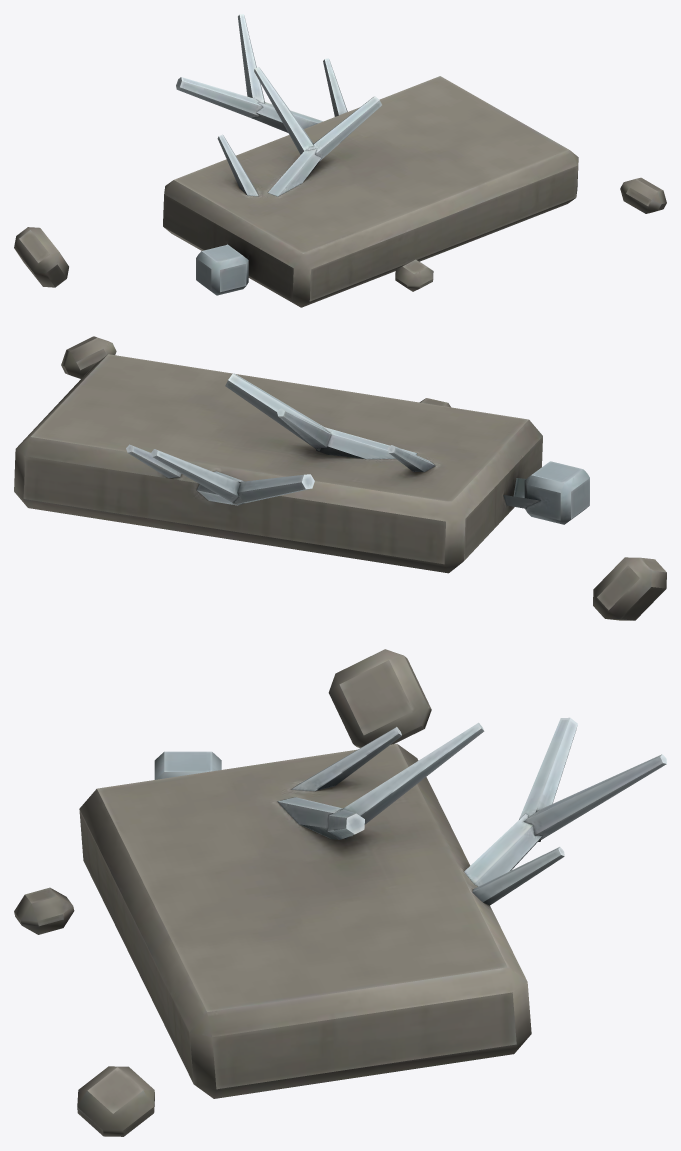
The model's file is camp_glasshorn.glb.
3 views of the same model, one above another, from view 1: azimuth 30°, elevation 25°; view 2: azimuth 150°, elevation 25°; view 3: azimuth 270°, elevation 25° (orthographic). The views are drawn at different scales.
Parts seen in each view (by area): view 1: camp_glasshorn_body; view 2: camp_glasshorn_body; view 3: camp_glasshorn_body.
Boxes of the visible parts, box(x1,y1,x2,y2) form: camp_glasshorn_body: box(14, 14, 666, 307); camp_glasshorn_body: box(14, 336, 666, 620); camp_glasshorn_body: box(14, 649, 666, 1136).
Size of the model in its own units: 2.11 by 0.489 by 1.36.
1 material, 1 textured.
